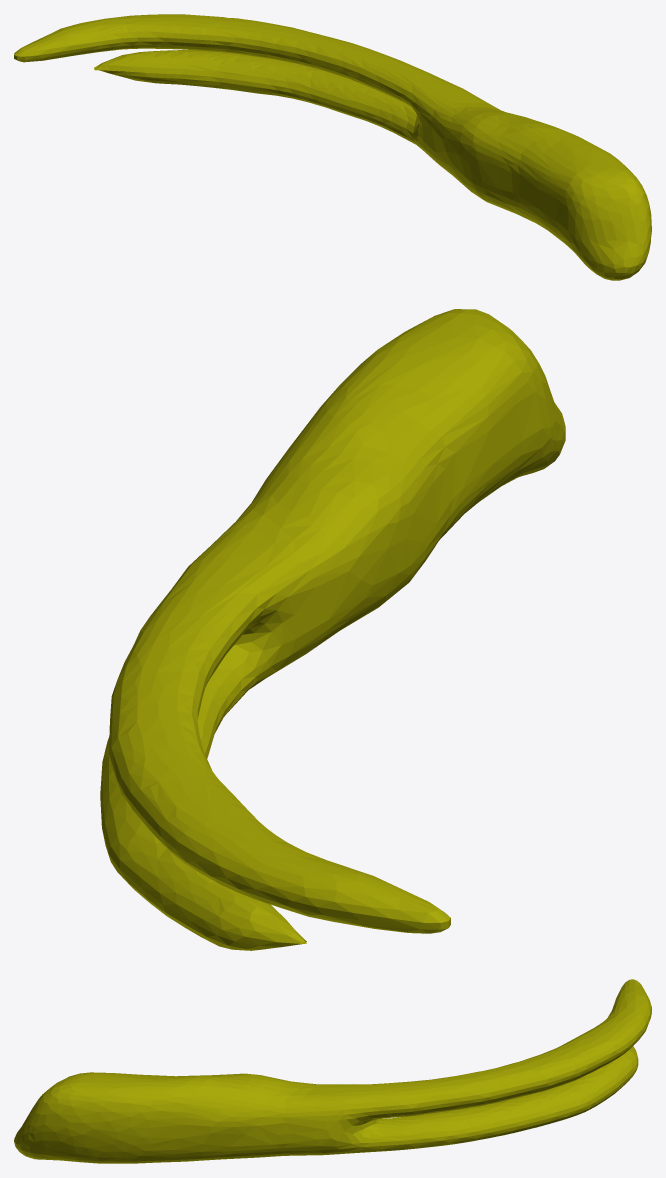
File: SpC.obj
3 views of the same model, one above another, from view 1: azimuth 30°, elevation 25°; view 2: azimuth 150°, elevation 25°; view 3: azimuth 270°, elevation 25° (orthographic). The views are drawn at different scales.
Visible parts, largest first — view 1: SpC_SpC.001; view 2: SpC_SpC.001; view 3: SpC_SpC.001.
Boxes of the visible parts, x1,y1,x2,y2 form: SpC_SpC.001: [14, 14, 651, 280]; SpC_SpC.001: [100, 309, 565, 950]; SpC_SpC.001: [14, 979, 651, 1163].
Size of the model in its own units: 4.24 by 1.1 by 7.7.
